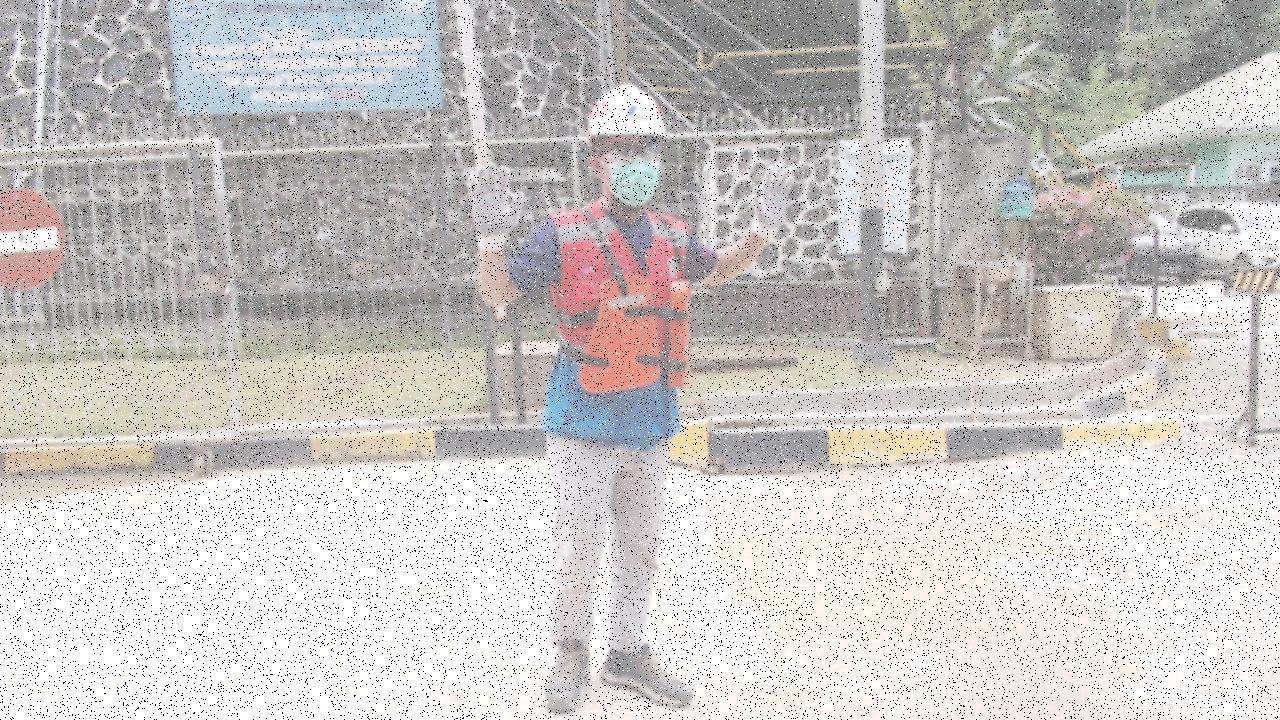glasses: (601, 143, 664, 160)
gloves: (463, 162, 527, 255), (749, 161, 796, 244)
helmet: (582, 82, 673, 138)
mask: (606, 161, 665, 204)
safety-shoes: (599, 640, 697, 708), (541, 637, 594, 716)
vest: (577, 271, 696, 396)
